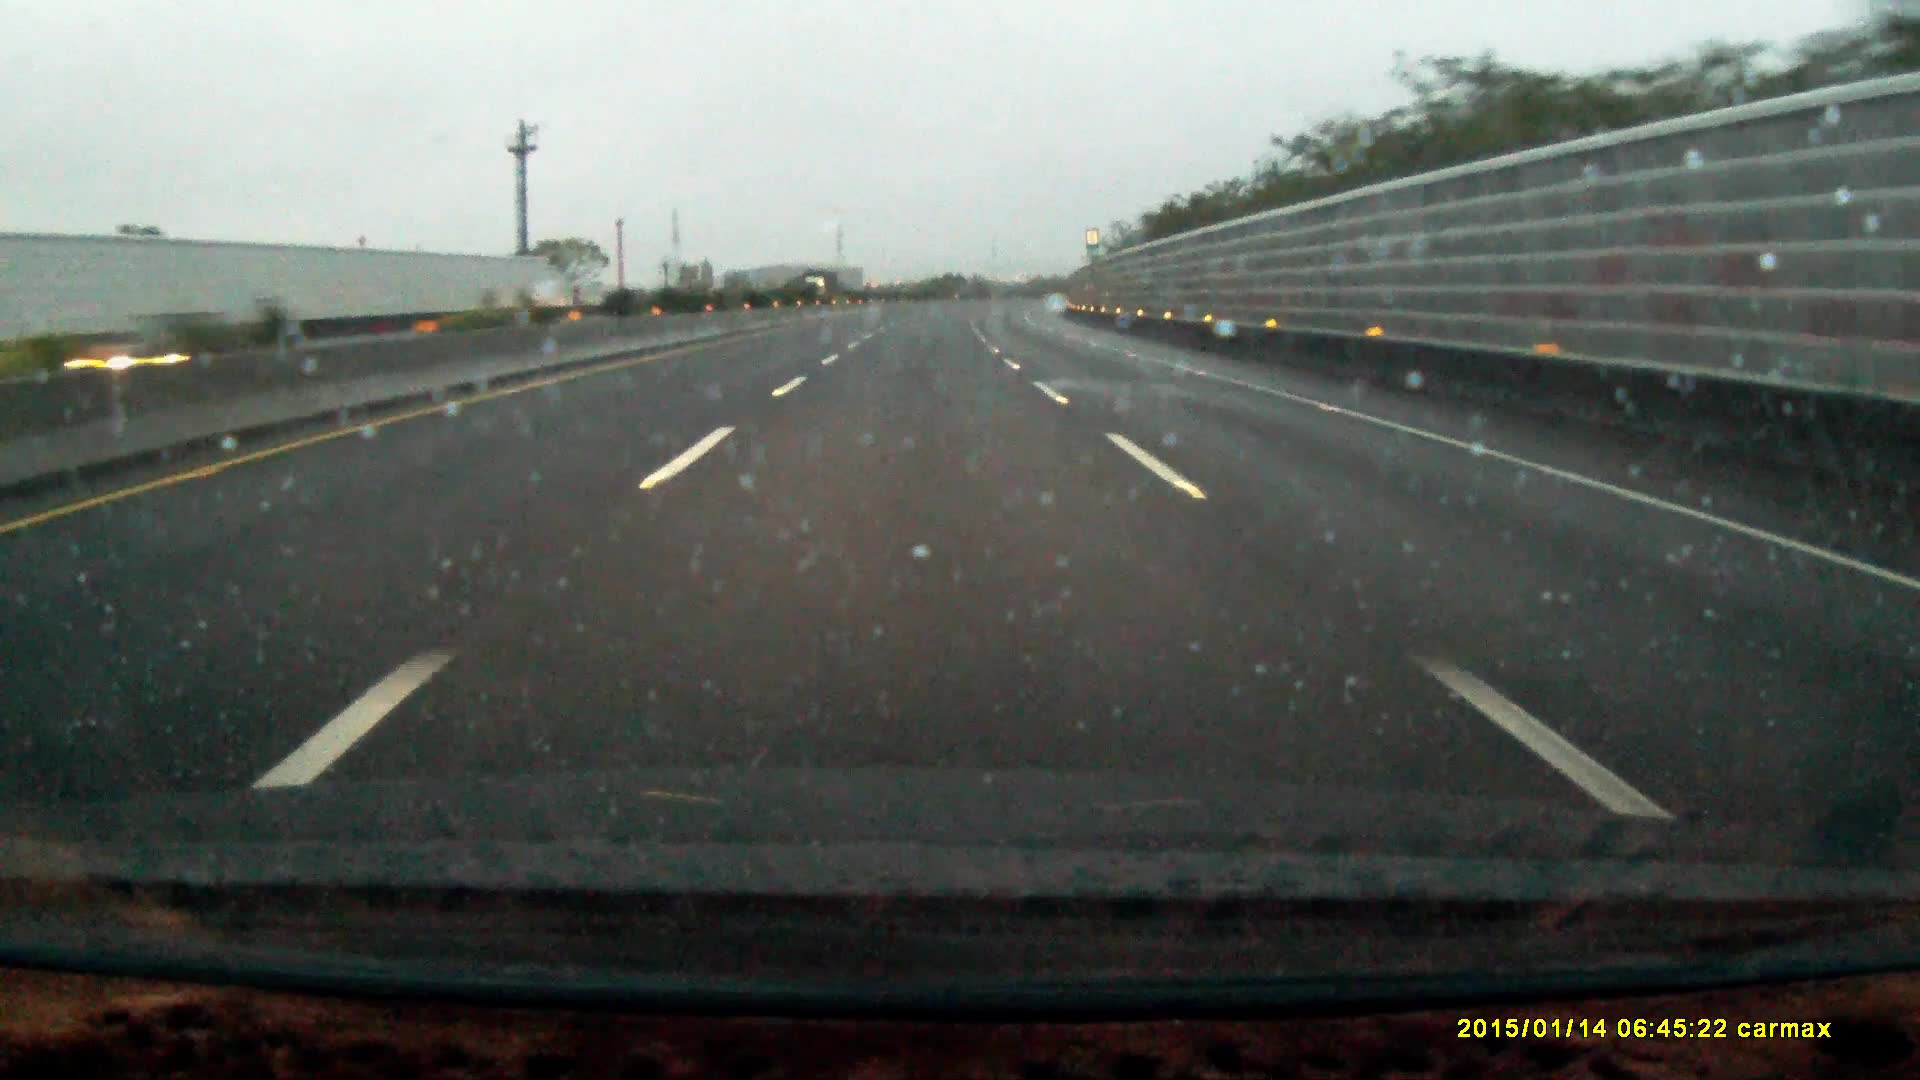vehicle: (50, 306, 278, 426), (800, 268, 839, 303)
